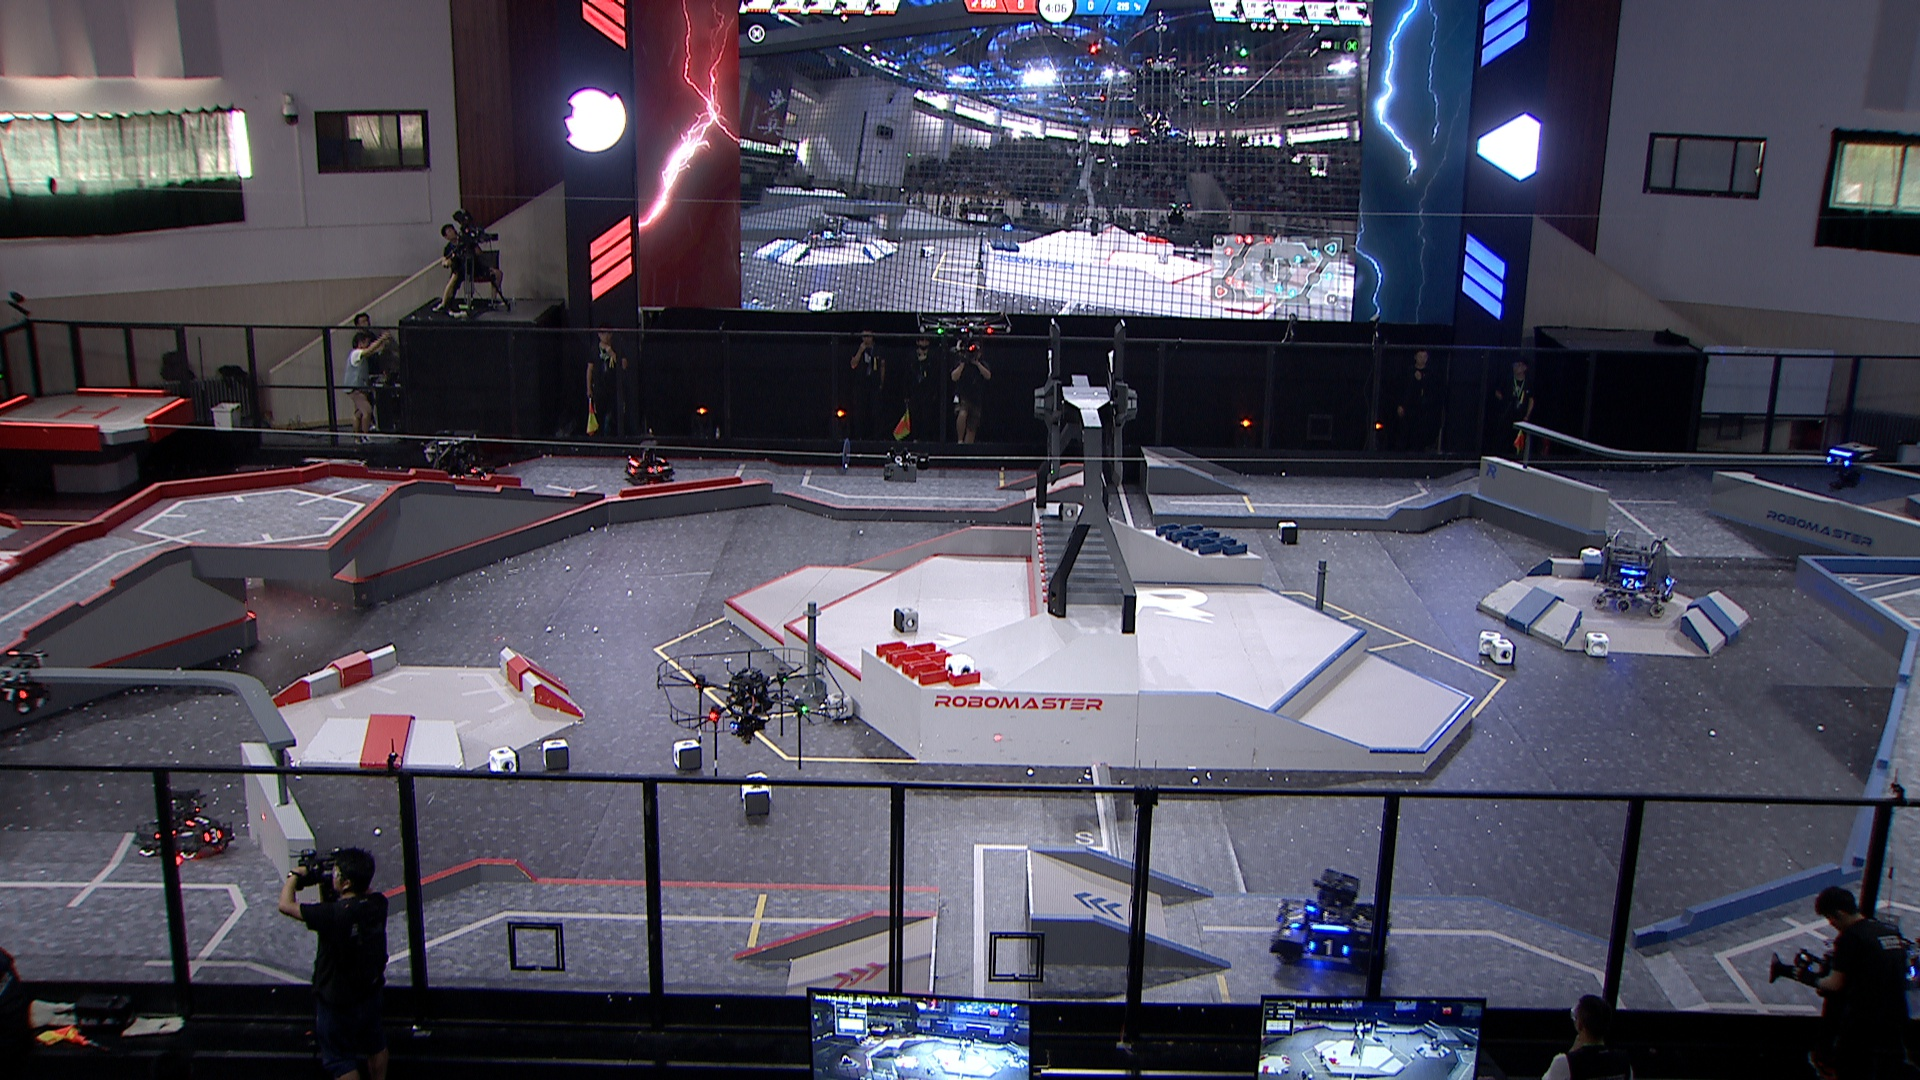armor: (1305, 939, 1352, 959), (200, 825, 224, 845), (1287, 909, 1305, 932), (186, 815, 212, 828), (1621, 578, 1643, 589), (1826, 455, 1851, 465), (646, 463, 665, 476), (467, 465, 485, 476), (622, 465, 637, 476)
car: (1269, 864, 1394, 978), (135, 785, 239, 864), (1592, 527, 1679, 617), (1845, 907, 1920, 989), (423, 429, 498, 495), (622, 436, 674, 487)
ignore: (808, 218, 847, 247)
watcher: (1822, 440, 1875, 493)
